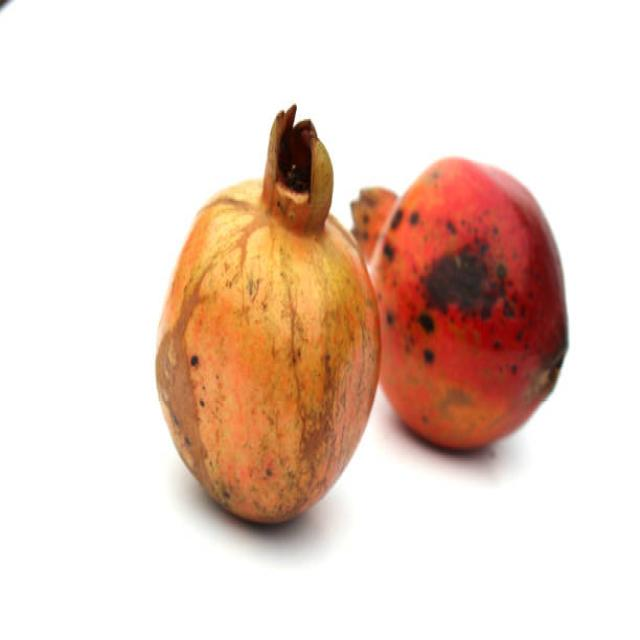overripe: (152, 99, 381, 532), (382, 146, 573, 458)
